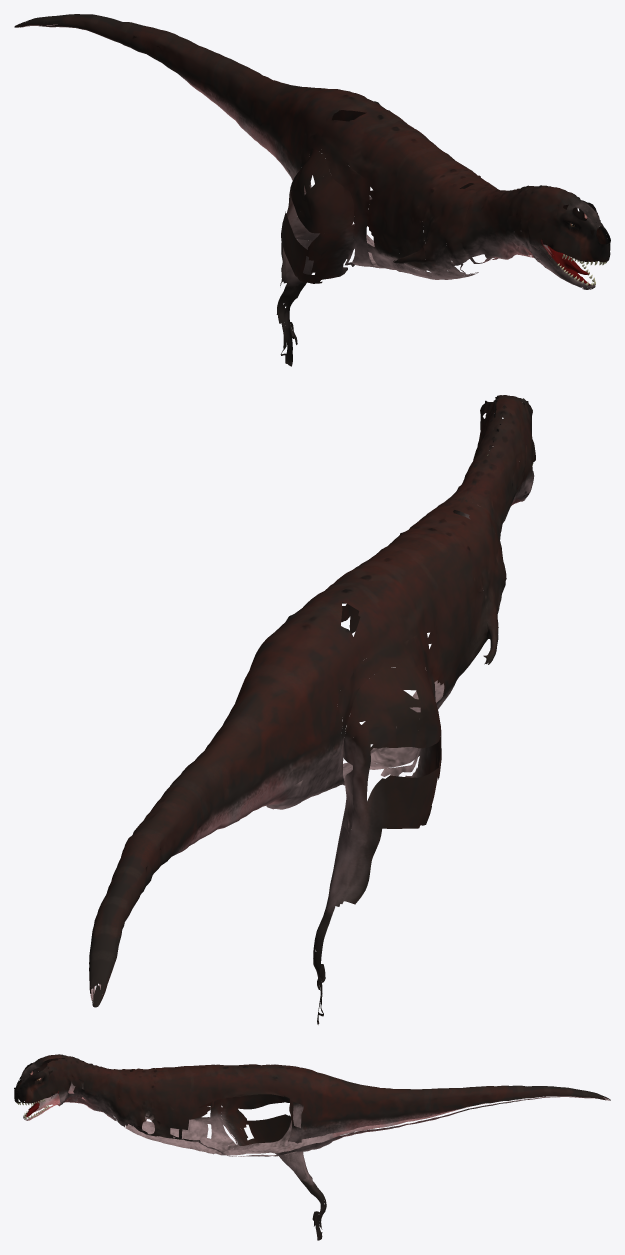
File: carnotauro_parado.glb
3 views of the same model, one above another, from view 1: azimuth 30°, elevation 25°; view 2: azimuth 150°, elevation 25°; view 3: azimuth 270°, elevation 25° (orthographic). The views are drawn at different scales.
Visible parts, largest first — view 1: Object_10_fixo; view 2: Object_10_fixo; view 3: Object_10_fixo.
Part boxes in pixels (bbox=[...]): Object_10_fixo: bbox=[14, 14, 610, 366]; Object_10_fixo: bbox=[89, 395, 535, 1024]; Object_10_fixo: bbox=[14, 1054, 610, 1240].
Size of the model in its own units: 5.03 by 10.24 by 27.09.
3 materials, 2 textured.
